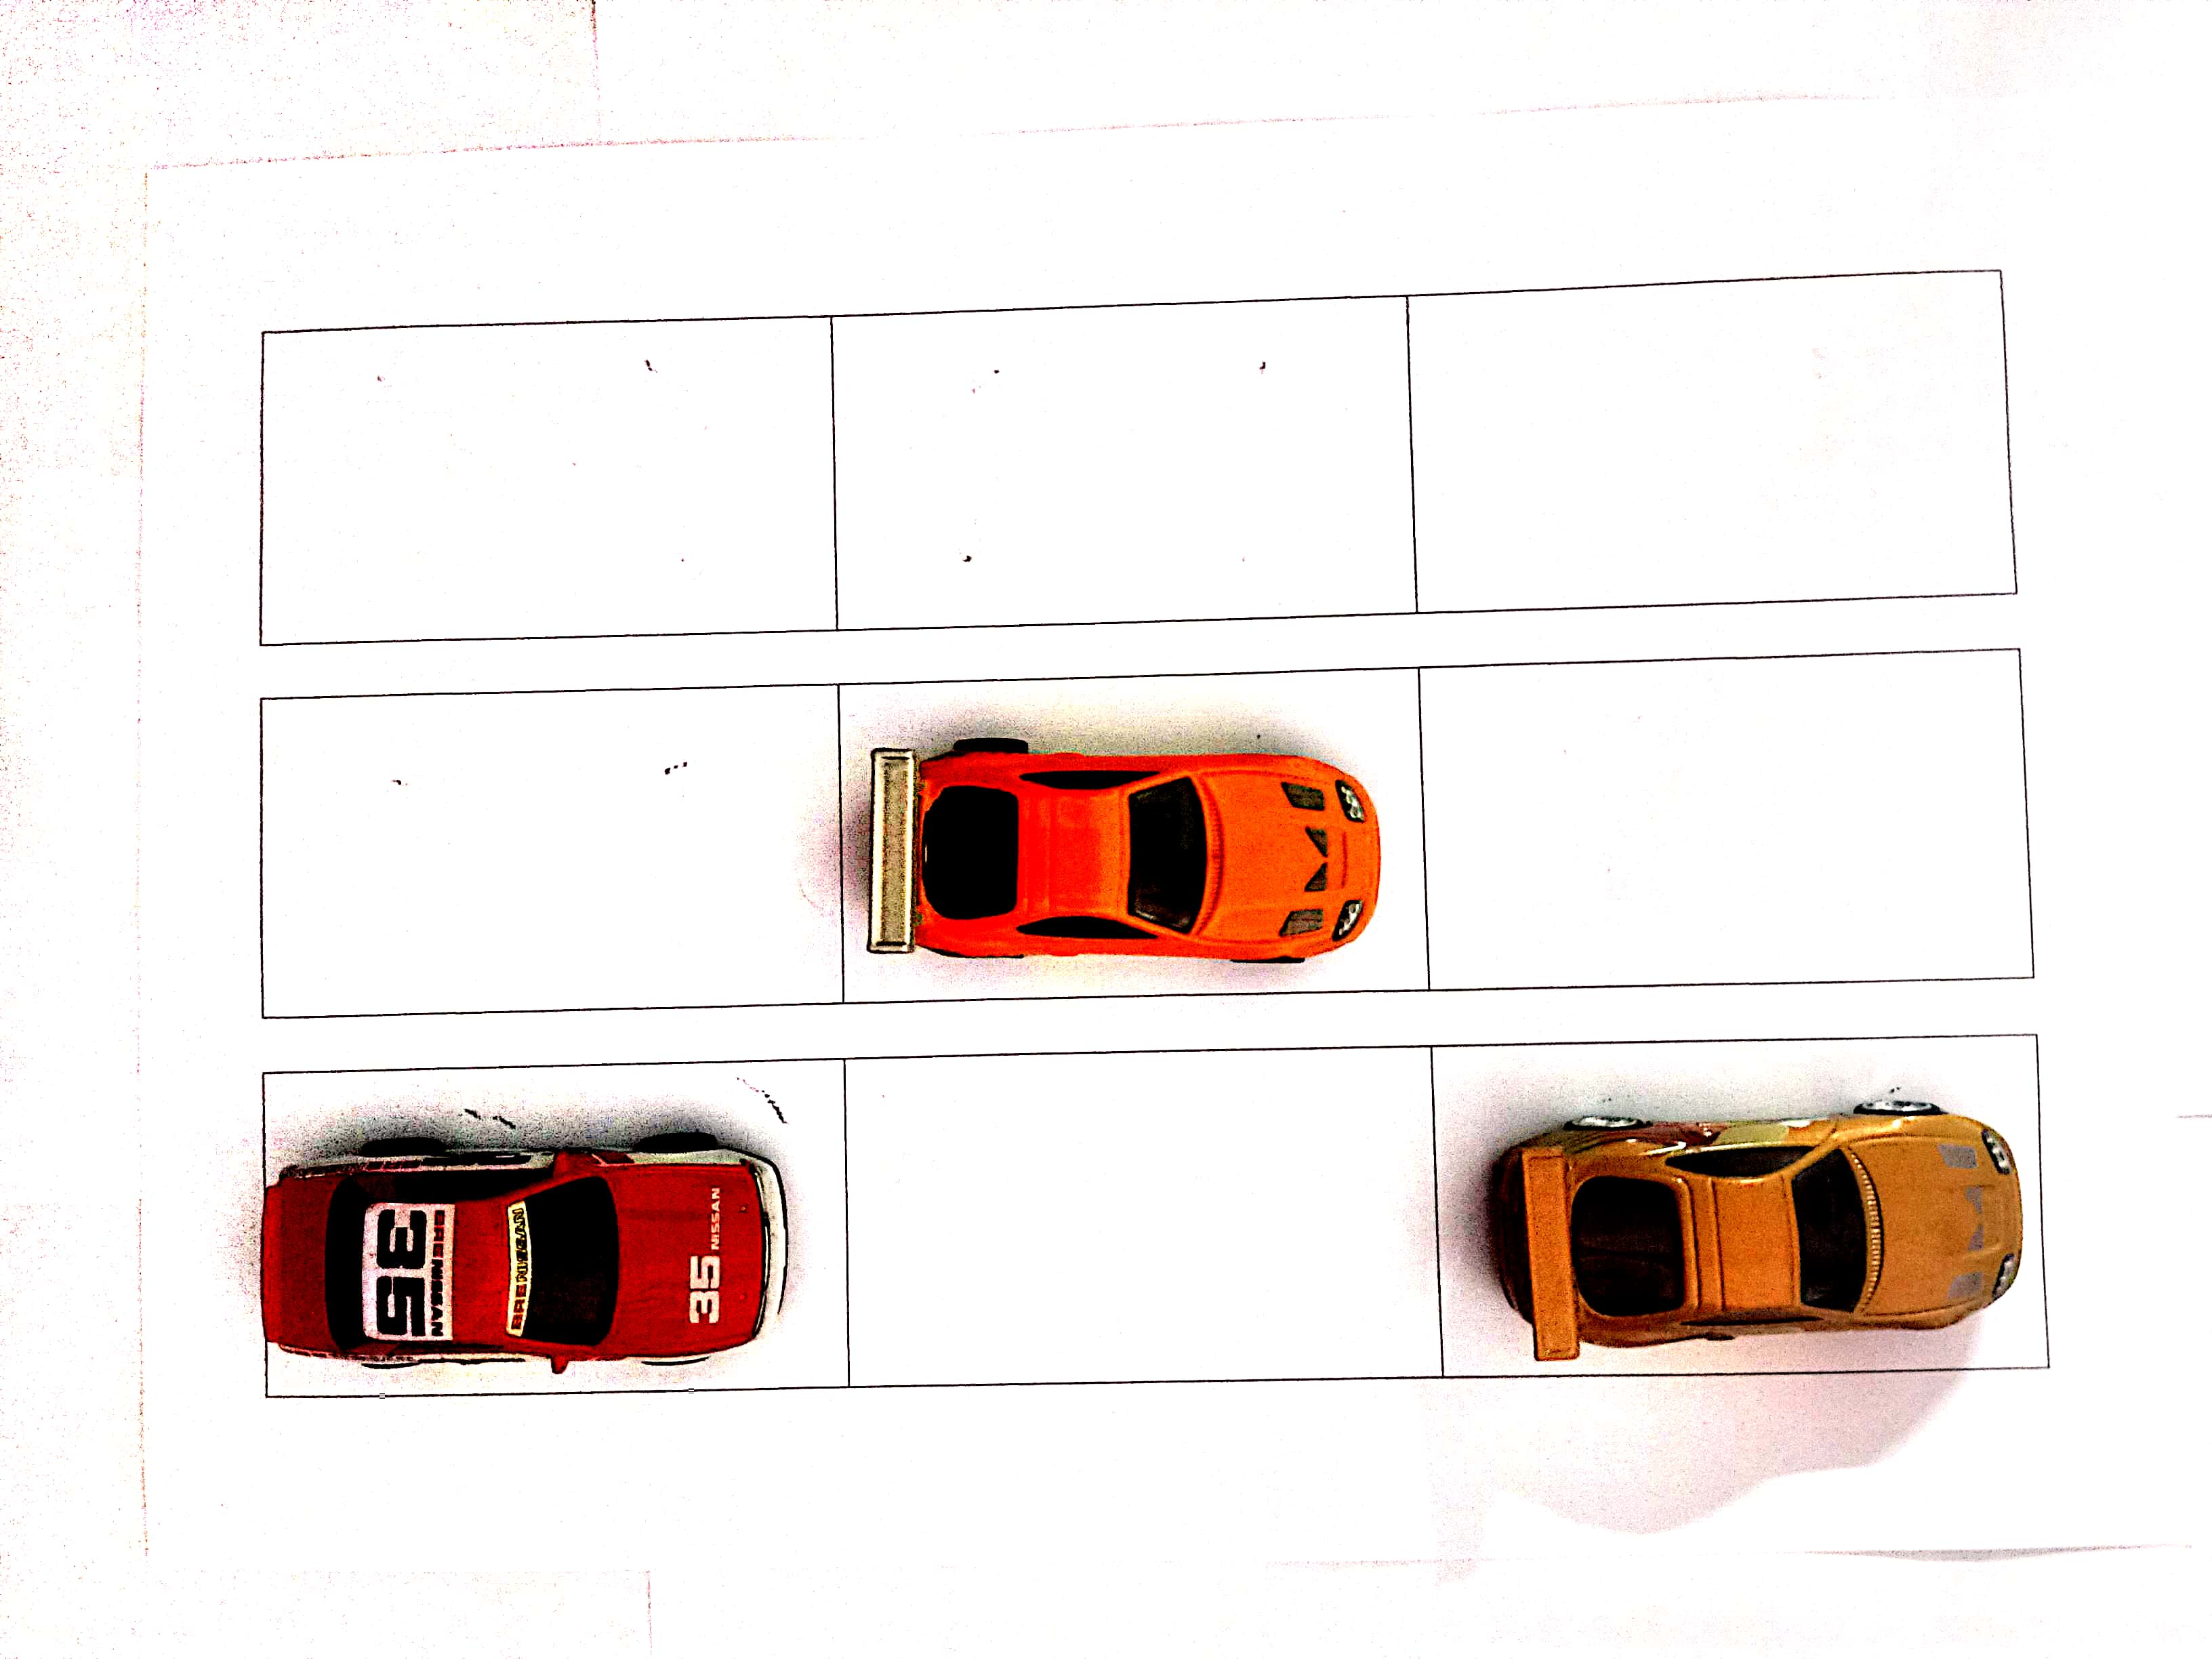Busy: (1446, 1028, 2038, 1366), (265, 1066, 848, 1389), (840, 680, 1423, 997)
Free: (1428, 659, 2024, 992), (1416, 272, 2008, 598), (261, 688, 836, 1018), (845, 1058, 1425, 1378), (836, 305, 1411, 619), (261, 335, 836, 640)
